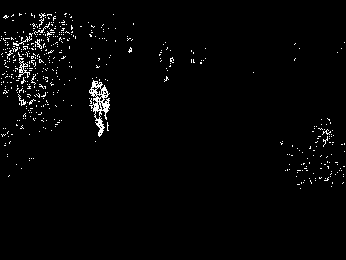person: (88, 79, 115, 140)
